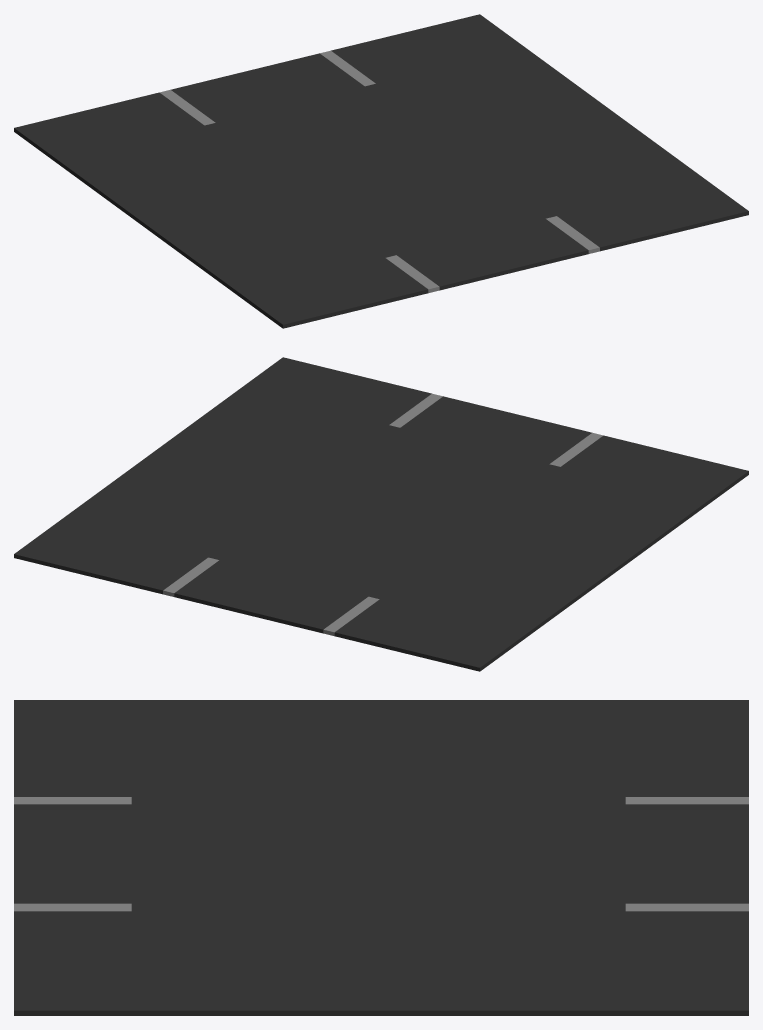
The model's file is Road Tile.obj.
The picture shows the model from 3 angles, top to bottom: view 1: azimuth 30°, elevation 25°; view 2: azimuth 150°, elevation 25°; view 3: azimuth 270°, elevation 25°; orthographic projection. The views are drawn at different scales.
Bounding box in the file's own units: 125 × 1 × 125.
1 material, 1 textured.
